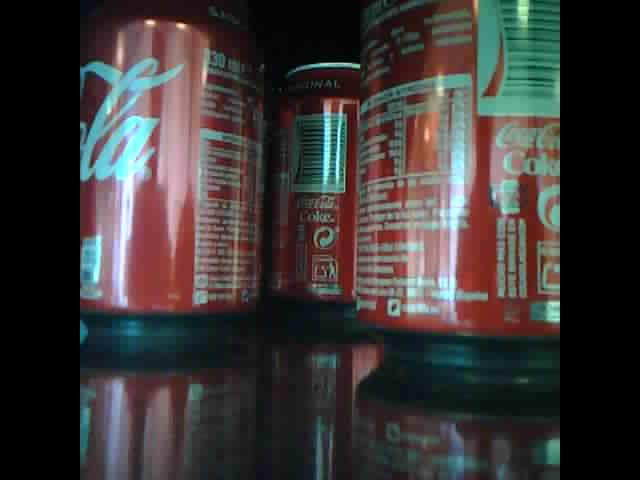coca cola: (357, 3, 559, 362), (79, 2, 264, 336), (270, 56, 361, 314)
